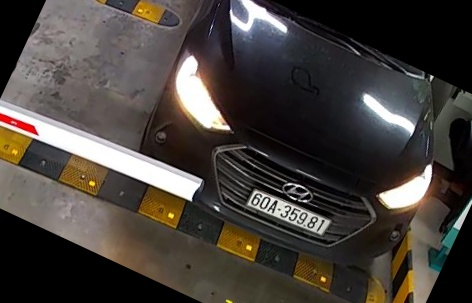plate: (247, 188, 333, 240)
